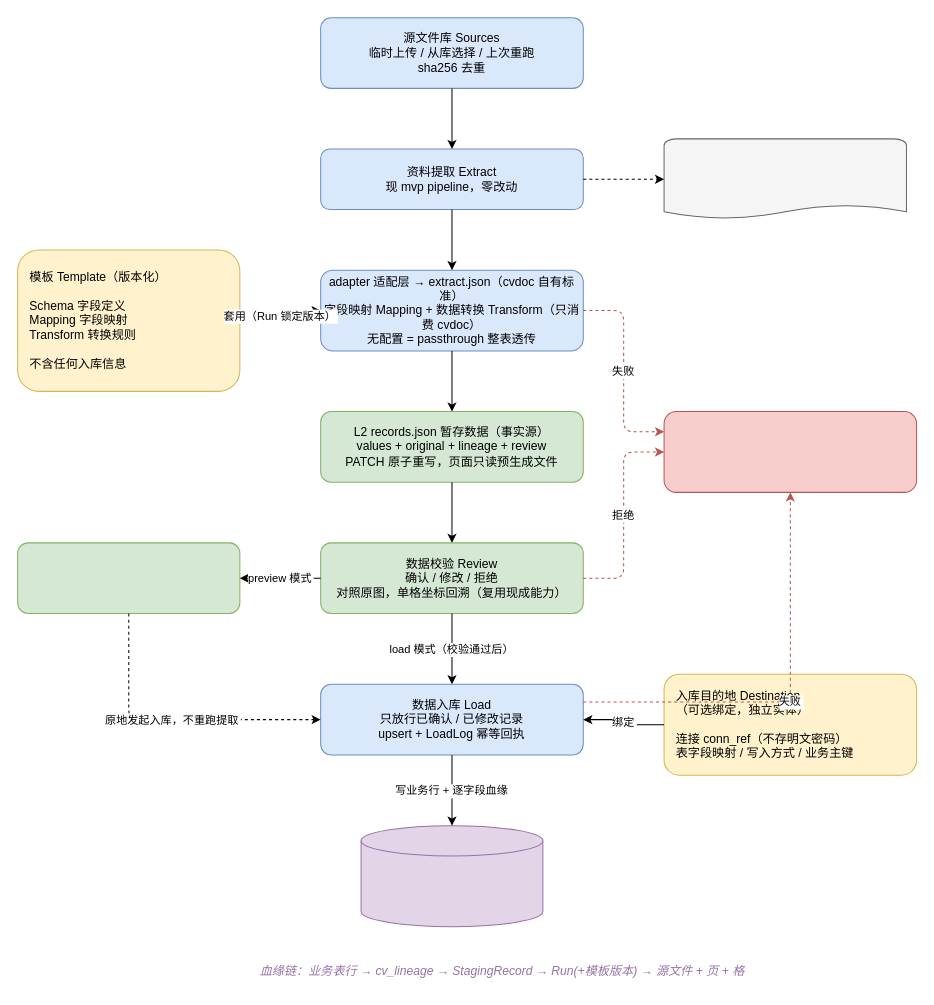
Image size: 934x1005. Some labels were removed from this diagram. Here are the shapes that lost their labels. From the top down, the centre of each, then its label:
At point (784, 179): "L0 raw/*.json 引擎原样返回 永不服务前端（403）".
At point (790, 451): "异常隔离区 Quarantine 转换 / 校验 / 入库失败 不丢弃不阻塞，修复后从失败阶段重放".
At point (128, 578): "已预览 previewed Preview 模式终点 只看数据，不碰业务库".
At point (451, 876): "目标业务库 业务表（+staging_record_id 列） cv_lineage 血缘表".
